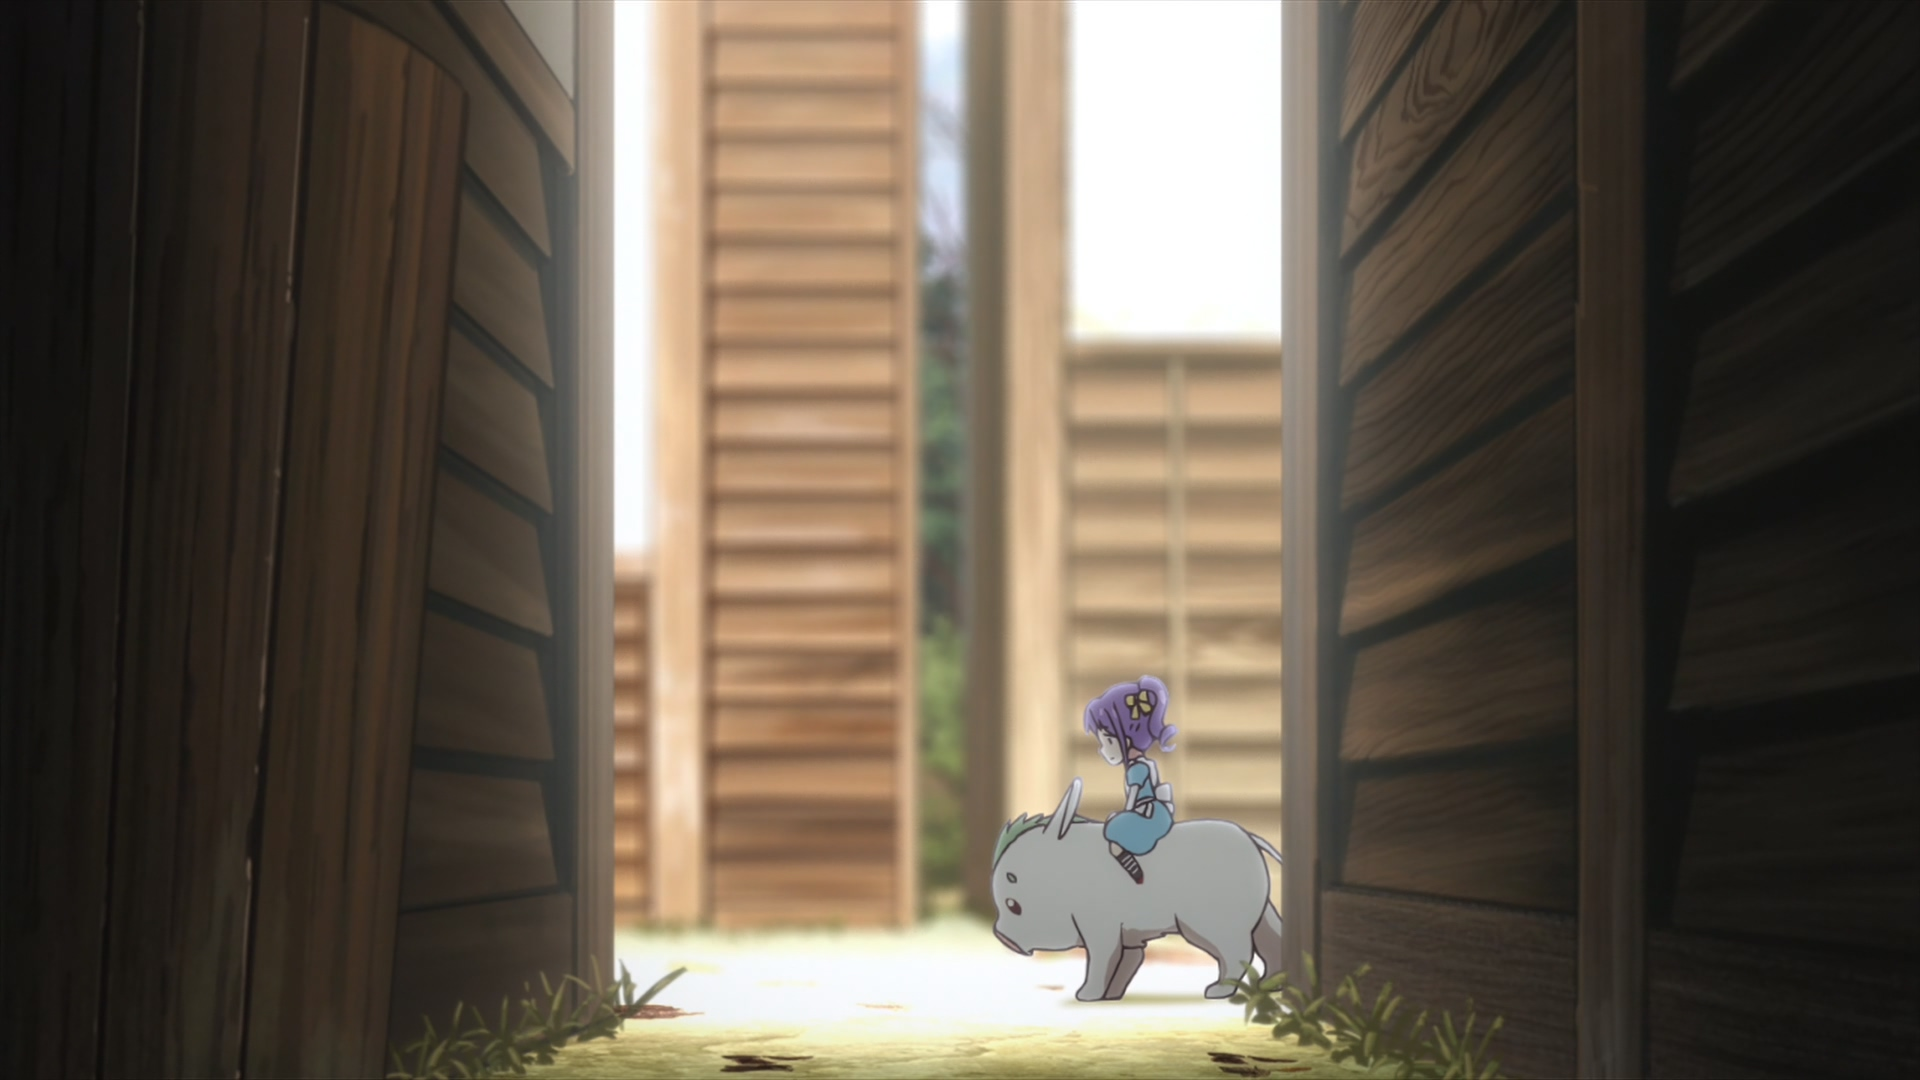瓜之介: (992, 781, 1280, 1002)
阿菊: (1085, 675, 1175, 882)
